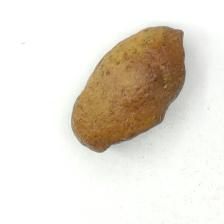NG: (100, 65, 185, 153)
